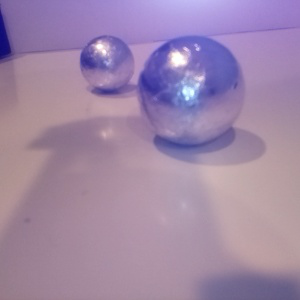alive_ball: (138, 35, 244, 147), (80, 36, 136, 93)
